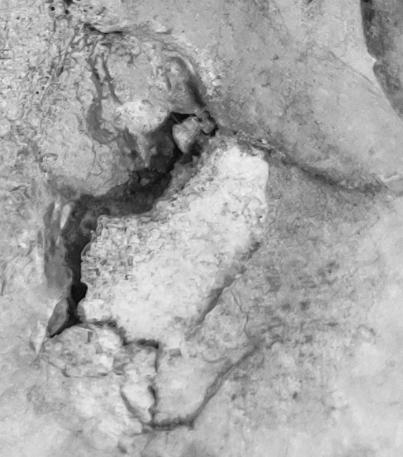crack: (1, 0, 403, 457)
